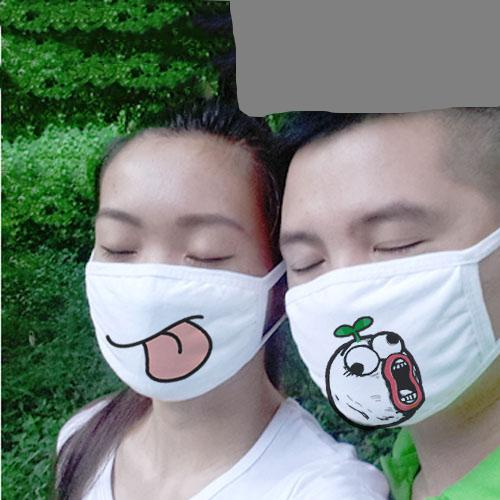OK: (277, 200, 496, 419), (76, 205, 269, 398)
